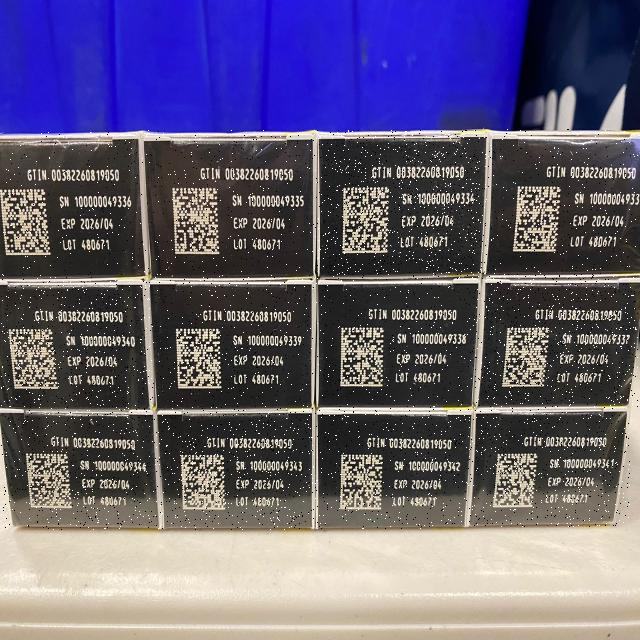BoxFace: (143, 130, 316, 279), (316, 130, 489, 277), (0, 130, 148, 282), (484, 129, 638, 275), (148, 278, 314, 411), (474, 274, 638, 408), (316, 276, 480, 409), (1, 280, 153, 412), (467, 407, 630, 527), (1, 408, 161, 530), (315, 409, 473, 530), (156, 410, 314, 530)
